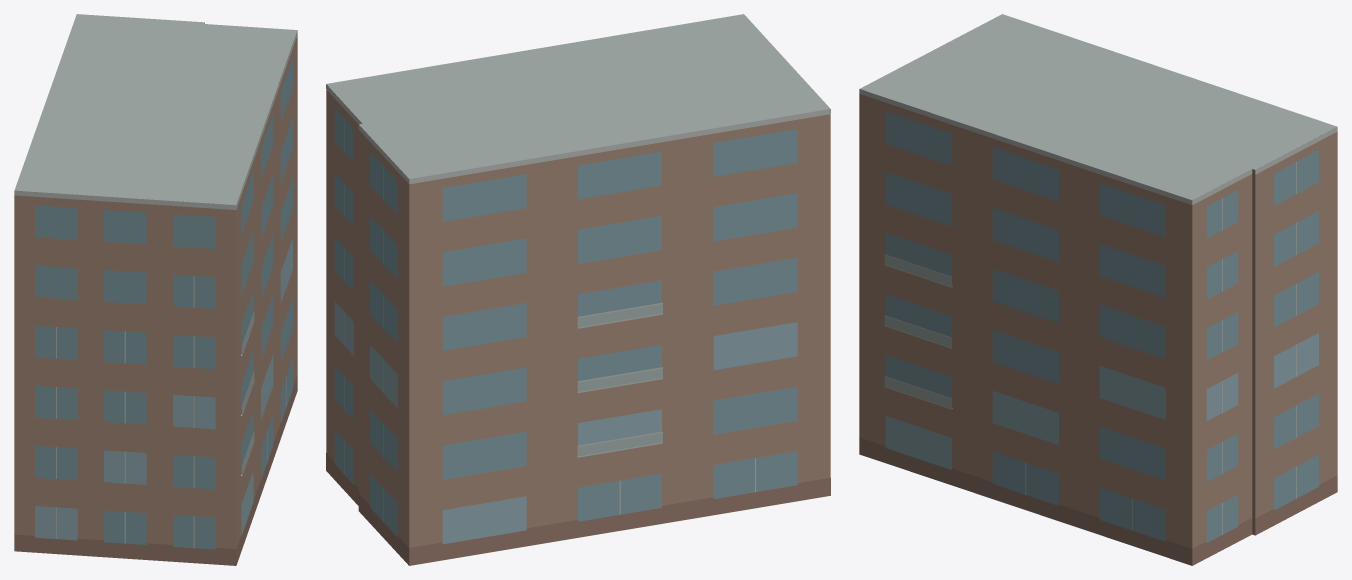
The model's file is survey-upis-33040495.glb.
3 renders of one model, left to right at view 1: azimuth 30°, elevation 25°; view 2: azimuth 150°, elevation 25°; view 3: azimuth 270°, elevation 25°, orthographic. The views are drawn at different scales.
Parts seen in each view (by area): view 1: survey-upis-33040495.tmp; view 2: survey-upis-33040495.tmp; view 3: survey-upis-33040495.tmp.
Part boxes in pixels (<box>): survey-upis-33040495.tmp: <box>14,14,297,565</box>; survey-upis-33040495.tmp: <box>326,14,830,565</box>; survey-upis-33040495.tmp: <box>859,14,1337,565</box>.
Bounding box in the file's own units: 20.02 × 18.3 × 21.7.
